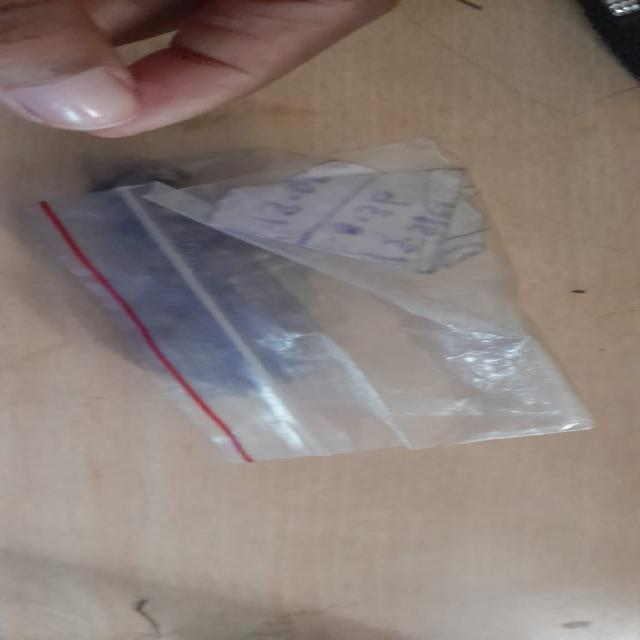Plastic - Recyclable: (36, 140, 596, 464)
